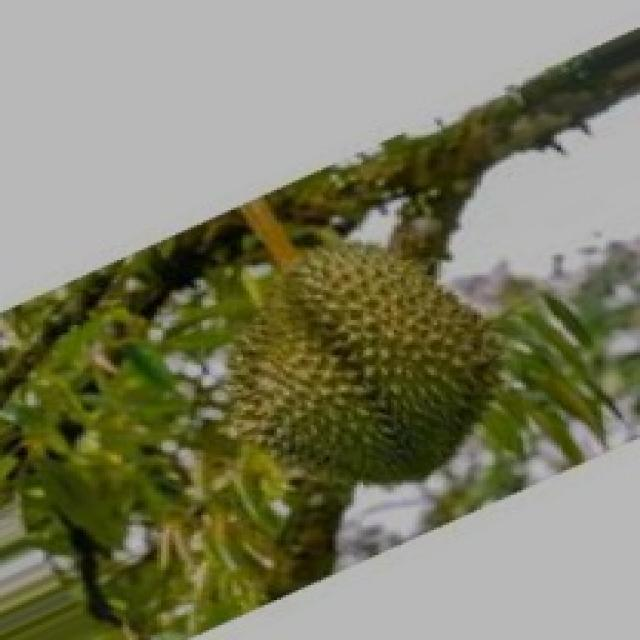fruit: (169, 187, 545, 535)
